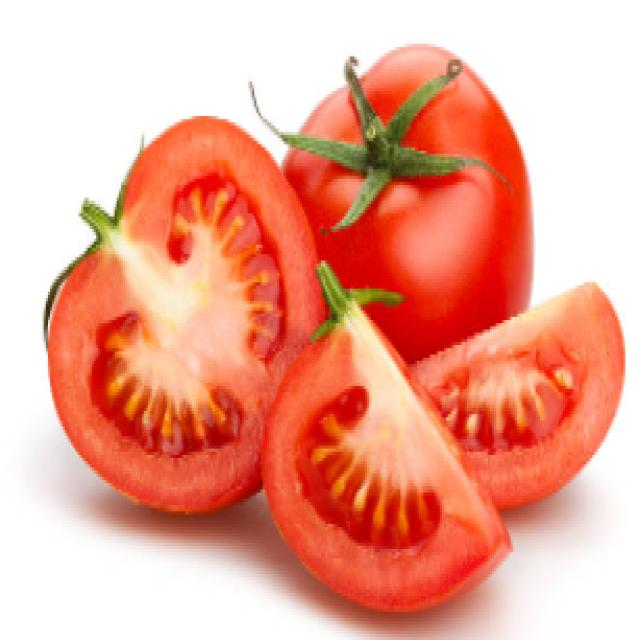Tomato: (44, 112, 319, 520), (266, 282, 512, 624)
